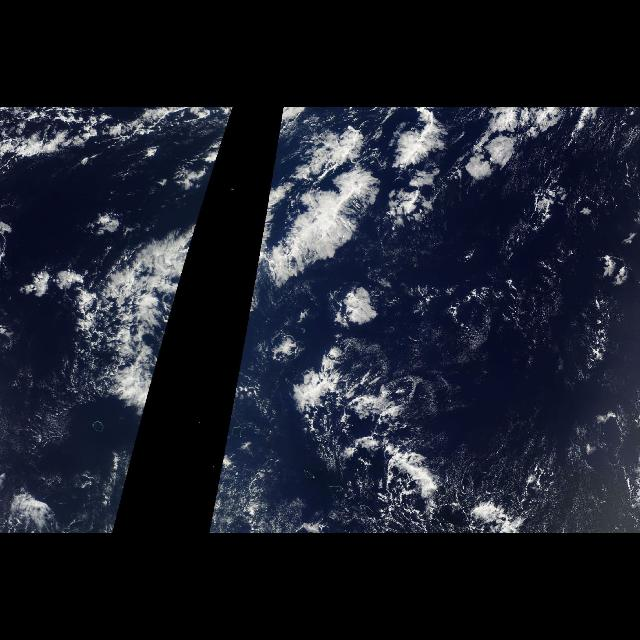Fish: (70, 206, 202, 442)
Flower: (265, 111, 531, 327)
